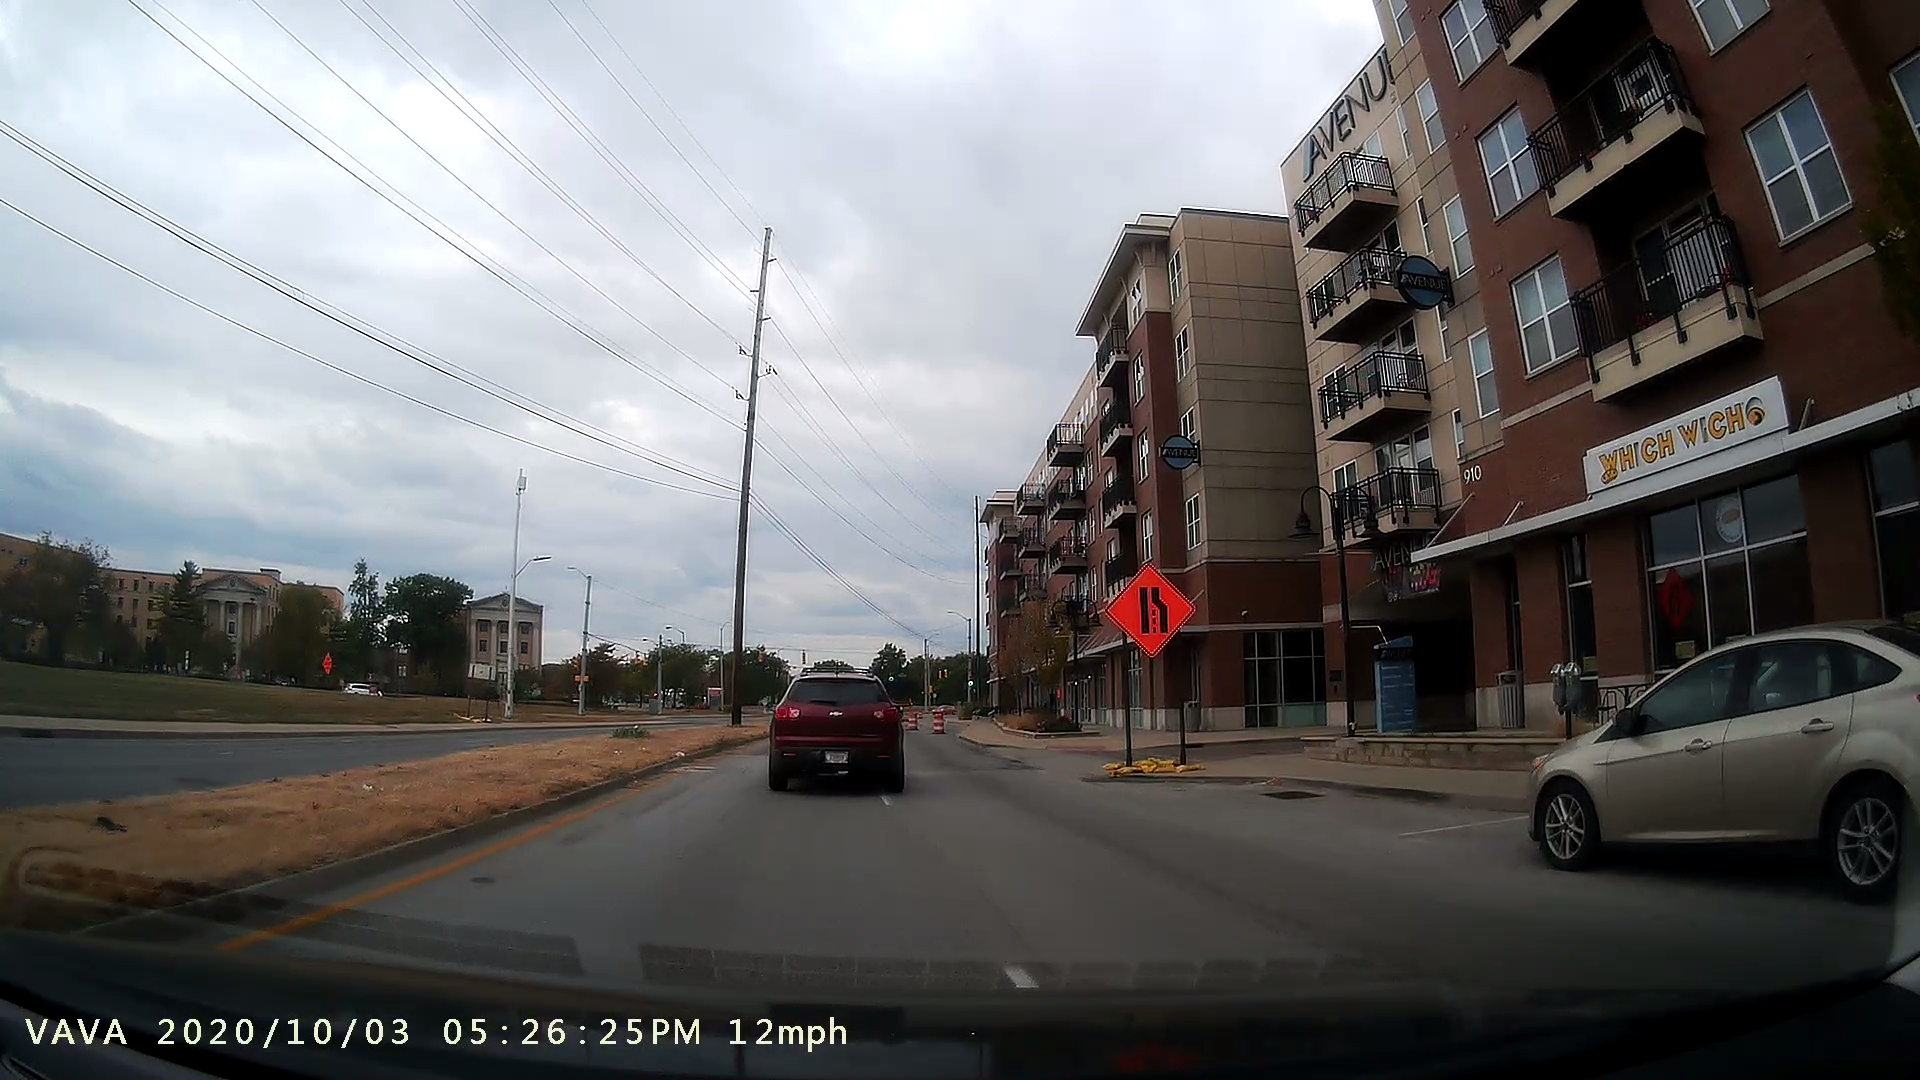ttcs_right_lane_reduction: (1097, 556, 1218, 782)
